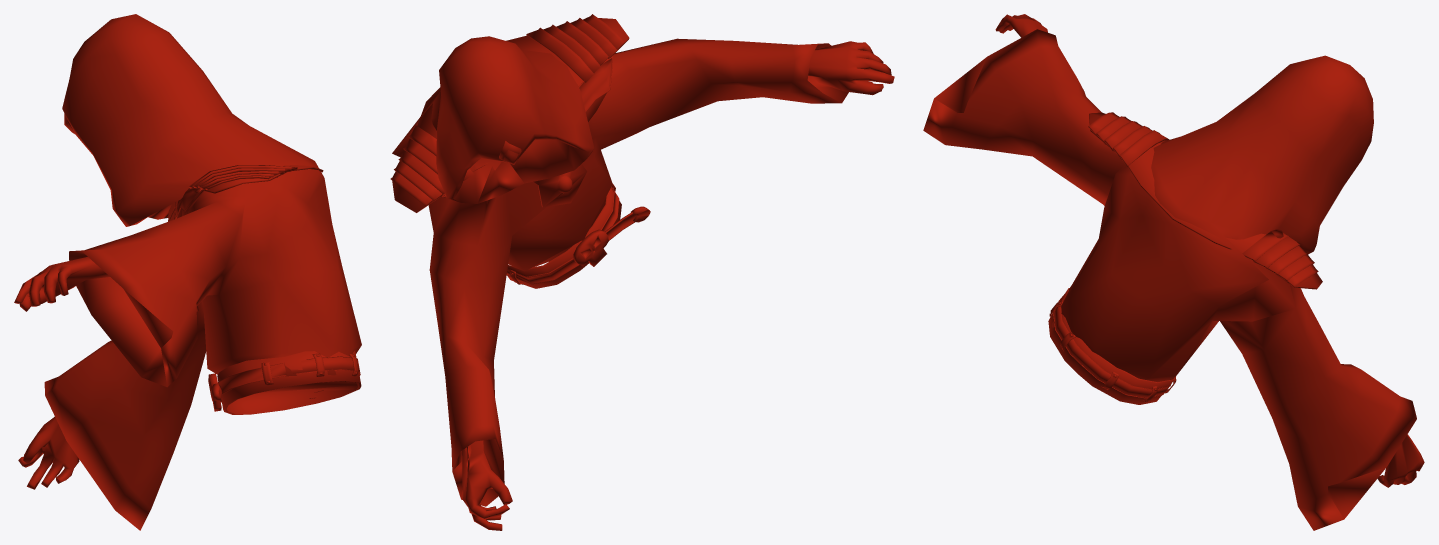
File: top_000050.obj
3 views of the same model, side by side, from view 1: azimuth 30°, elevation 25°; view 2: azimuth 150°, elevation 25°; view 3: azimuth 270°, elevation 25° (orthographic). The views are drawn at different scales.
Visible parts, largest first — view 1: LowPoly_Warlock.000_Plane.005; view 2: LowPoly_Warlock.000_Plane.005; view 3: LowPoly_Warlock.000_Plane.005.
Boxes of the visible parts, <box> form: LowPoly_Warlock.000_Plane.005: <box>14,14,361,530</box>; LowPoly_Warlock.000_Plane.005: <box>390,14,894,530</box>; LowPoly_Warlock.000_Plane.005: <box>923,14,1424,530</box>.
Size of the model in its own units: 1.2 by 1.43 by 1.38.
